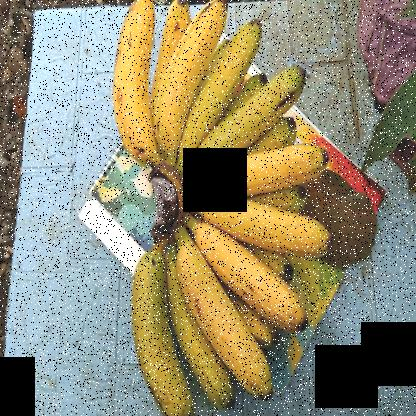freshripe: (177, 240, 281, 403), (193, 217, 310, 343), (178, 11, 266, 163), (151, 0, 225, 159), (200, 130, 332, 204), (202, 190, 331, 261)
ripe: (117, 240, 200, 415), (110, 0, 162, 163)
